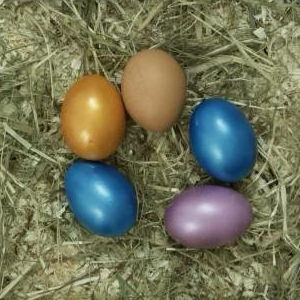egg: (189, 98, 258, 184), (164, 185, 254, 250), (60, 74, 127, 161), (121, 48, 188, 134), (64, 163, 138, 237)
